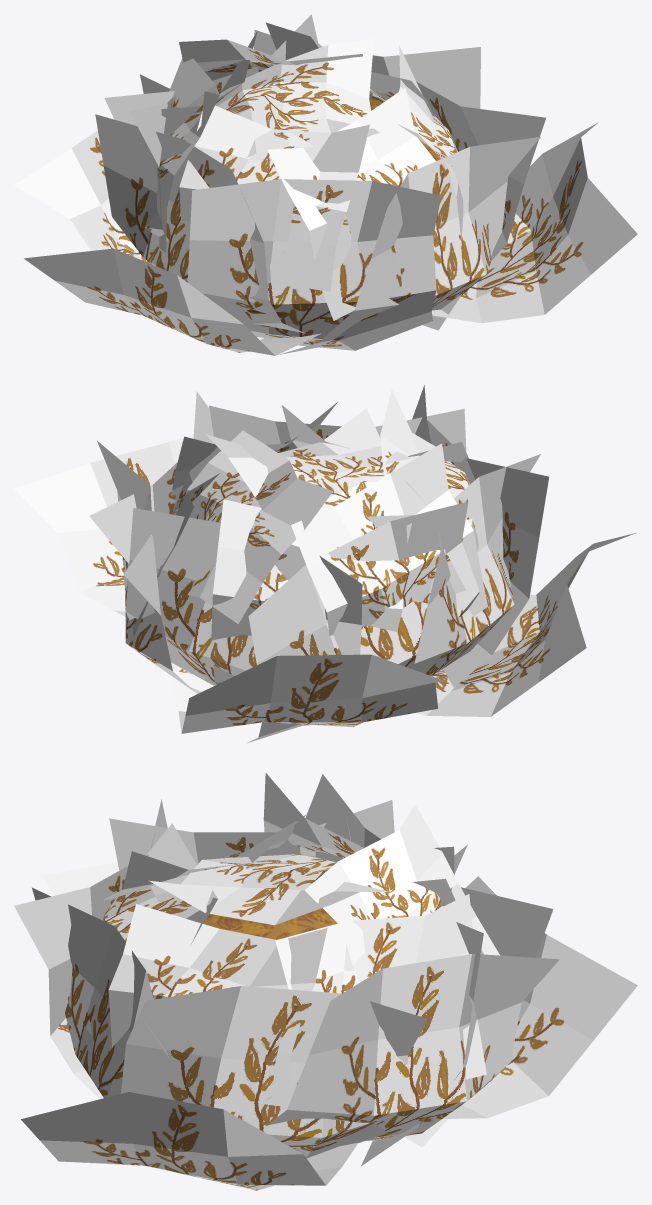
The model's file is Bush_Tall_test3_fixeddoubledfaces.fbx.
3 renders of one model, top to bottom at view 1: azimuth 30°, elevation 25°; view 2: azimuth 150°, elevation 25°; view 3: azimuth 270°, elevation 25°, orthographic. The views are drawn at different scales.
Visible parts, largest first — view 1: Plane.006, Plane.016, Plane.005, Plane.010, Plane, Plane.015, Plane.014, Plane.007, Plane.017, Plane.004, Plane.003, Plane.011 (+6 smaller); view 2: Plane.017, Plane.011, Plane.001, Plane.002, Plane.013, Plane.015, Plane.016, Plane, Plane.006, Plane.014, Plane.012, Plane.003 (+6 smaller); view 3: Plane.003, Plane.004, Plane.016, Plane.008, Plane.017, Plane.013, Plane.005, Plane.009, Plane.014, Plane.006, Plane.001, Plane (+6 smaller).
Part boxes in pixels (<box>): Plane.006: <box>187,179,441,350</box>; Plane.016: <box>432,122,637,323</box>; Plane.005: <box>278,136,540,354</box>; Plane.010: <box>179,105,369,291</box>; Plane: <box>95,114,319,341</box>; Plane.015: <box>24,248,321,355</box>; Plane.014: <box>215,39,379,158</box>; Plane.007: <box>267,87,435,320</box>; Plane.017: <box>14,130,150,263</box>; Plane.004: <box>416,82,545,330</box>; Plane.003: <box>254,30,480,108</box>; Plane.011: <box>156,58,219,252</box>; Plane.017: <box>169,654,446,733</box>; Plane.011: <box>291,443,487,635</box>; Plane.001: <box>247,501,479,742</box>; Plane.002: <box>125,508,362,725</box>; Plane.013: <box>185,430,333,624</box>; Plane.015: <box>416,532,636,716</box>; Plane.016: <box>14,435,193,616</box>; Plane: <box>410,454,540,675</box>; Plane.006: <box>412,385,549,687</box>; Plane.014: <box>205,408,412,546</box>; Plane.012: <box>211,499,413,682</box>; Plane.003: <box>97,441,201,693</box>; Plane.003: <box>267,953,559,1141</box>; Plane.004: <box>121,986,427,1158</box>; Plane.016: <box>21,1092,358,1190</box>; Plane.008: <box>108,904,327,1106</box>; Plane.017: <box>442,876,637,1118</box>; Plane.013: <box>305,804,499,982</box>; Plane.005: <box>32,887,168,1097</box>; Plane.009: <box>275,894,486,1121</box>; Plane.014: <box>149,854,388,925</box>; Plane.006: <box>14,799,167,1098</box>; Plane.001: <box>305,774,553,1147</box>; Plane: <box>109,800,394,870</box>.
Size of the model in its own units: 726 by 331 by 608.
